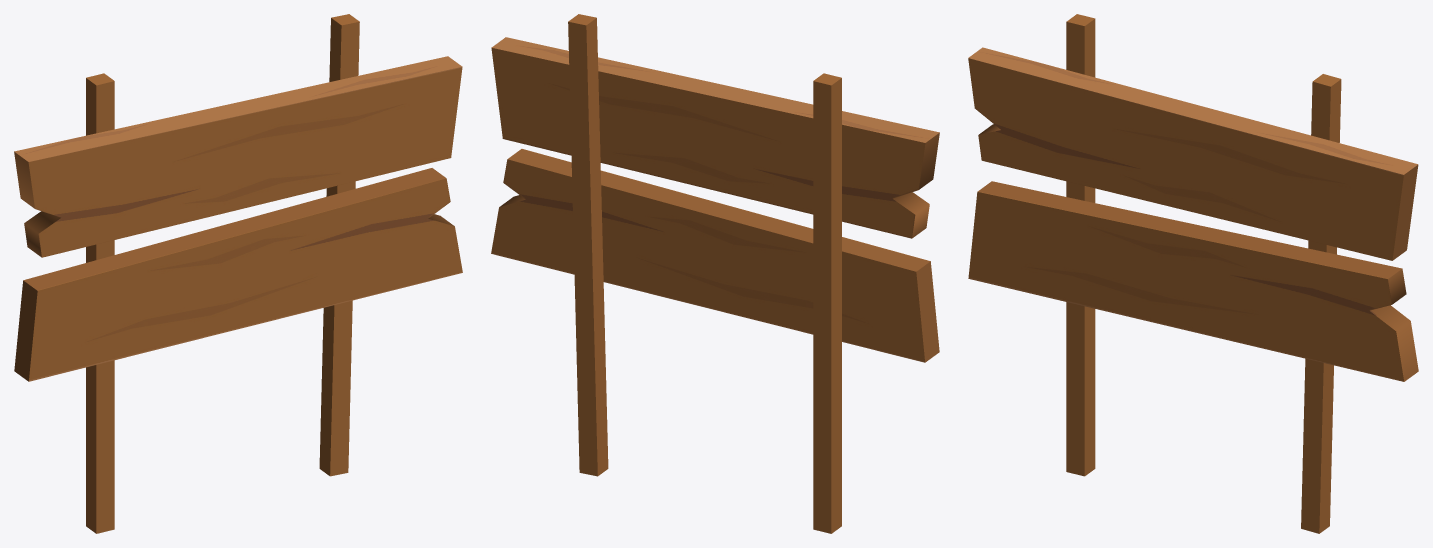
File: Hek.fbx
3 views of the same model, side by side, from view 1: azimuth 30°, elevation 25°; view 2: azimuth 150°, elevation 25°; view 3: azimuth 330°, elevation 25° (orthographic).
Visible parts, largest first — view 1: polySurface1; view 2: polySurface1; view 3: polySurface1.
Boxes of the visible parts, bbox=[...] form: polySurface1: bbox=[14, 14, 462, 533]; polySurface1: bbox=[491, 14, 939, 533]; polySurface1: bbox=[968, 14, 1418, 533].
Size of the model in its own units: 4.55 by 4.49 by 0.4631.
